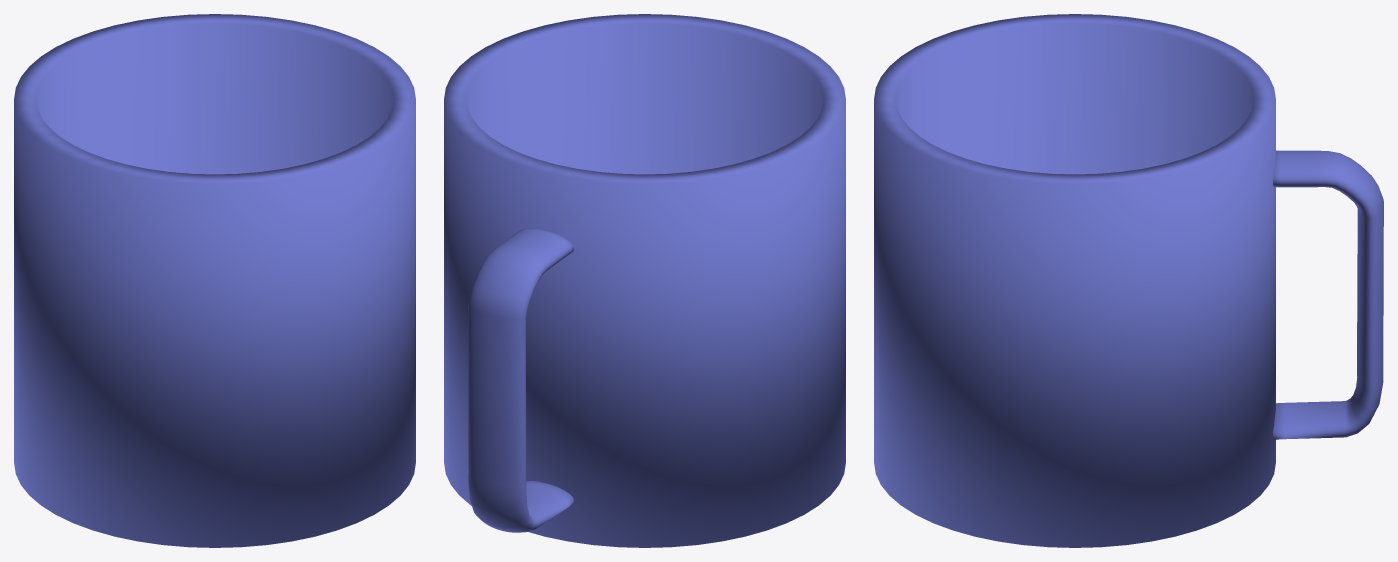
File: cup.fbx
The picture shows the model from 3 angles, left to right: view 1: azimuth 30°, elevation 25°; view 2: azimuth 150°, elevation 25°; view 3: azimuth 270°, elevation 25°; orthographic projection.
Parts seen in each view (by area): view 1: Cylinder; view 2: Cylinder; view 3: Cylinder.
Boxes of the visible parts, <box> form: Cylinder: <box>14,14,415,547</box>; Cylinder: <box>444,14,845,547</box>; Cylinder: <box>874,14,1383,547</box>.
Bounding box in the file's own units: 200 × 200 × 254.
